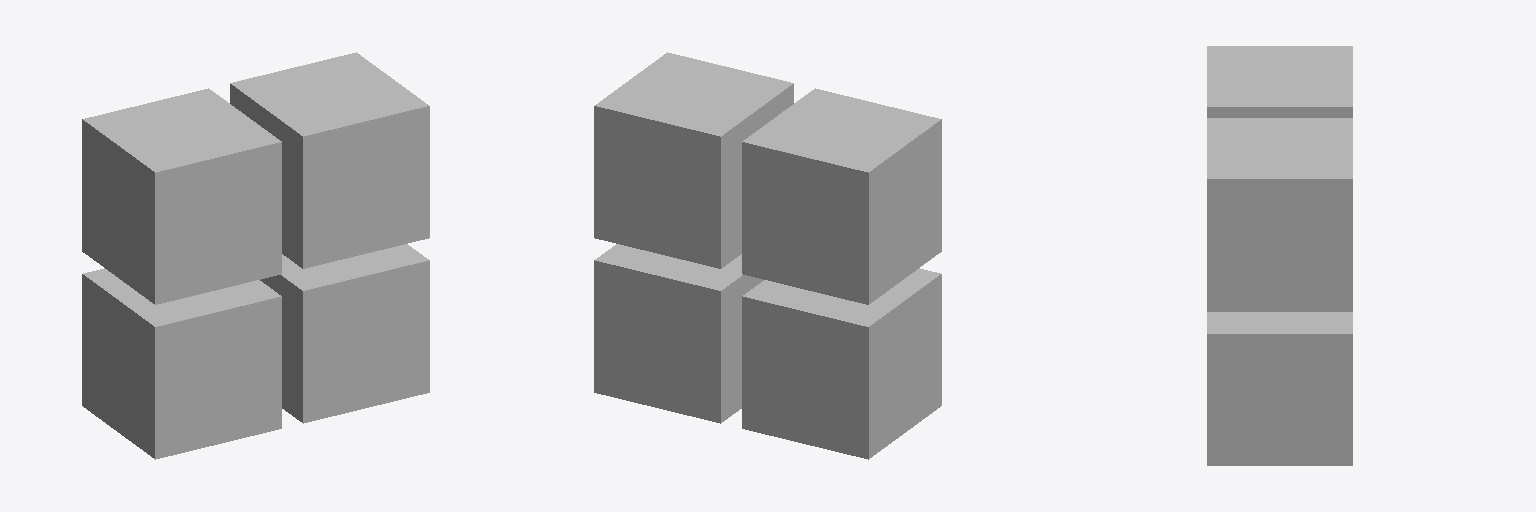
Rendered from 6cm cubes 4x.obj.
The picture shows the model from 3 angles: view 1: azimuth 30°, elevation 25°; view 2: azimuth 150°, elevation 25°; view 3: azimuth 270°, elevation 25°; orthographic projection.
Parts seen in each view (by area): view 1: obj_0; view 2: obj_0; view 3: obj_0.
Boxes of the visible parts, box(x1,y1,x2,y2) form: obj_0: box(82, 52, 429, 459); obj_0: box(594, 52, 941, 459); obj_0: box(1207, 46, 1352, 465).
Size of the model in its own units: 130 by 130 by 60.